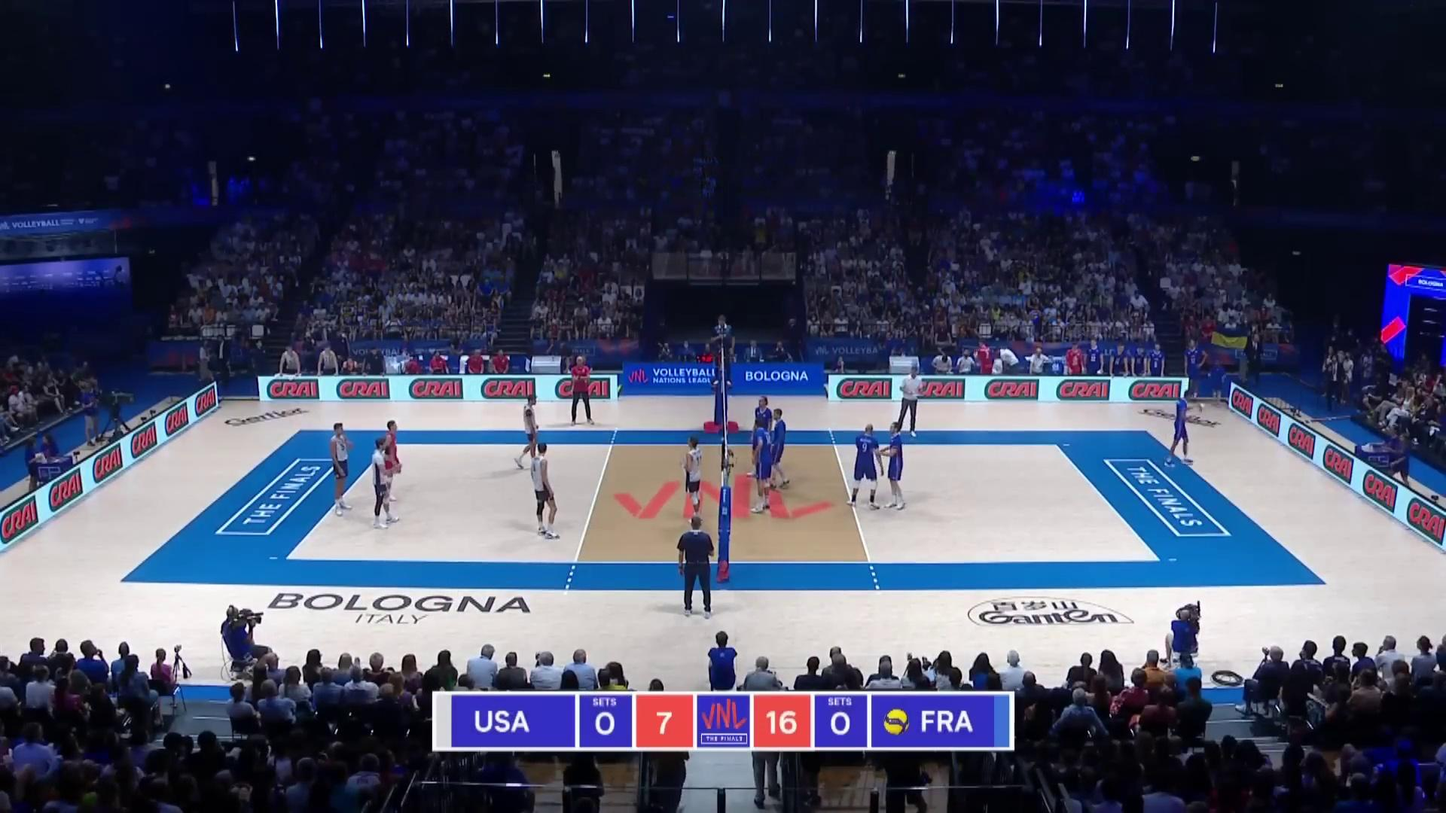player: (851, 424, 883, 508), (533, 445, 561, 539), (752, 420, 779, 516), (368, 438, 396, 526), (880, 422, 907, 512), (514, 395, 545, 473), (1166, 391, 1197, 466), (680, 438, 707, 523), (329, 423, 354, 512), (749, 397, 774, 476), (769, 406, 792, 489), (381, 422, 405, 483)
refree: (680, 517, 719, 617), (711, 317, 734, 386)
